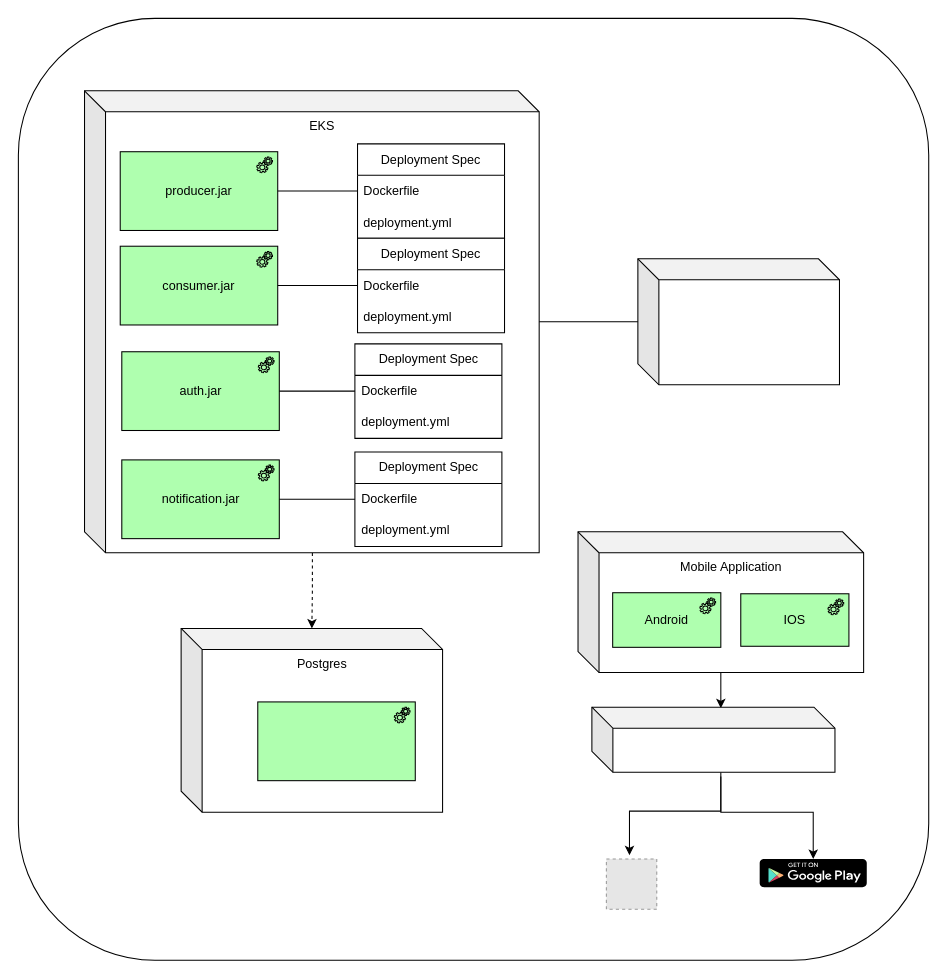
The diagram is 947 pixels wide and 979 high, and some of its shapes have lost their labels. Grey dashed boxes stand in for pictures. The shapes that lost their labels are listed below. From the top down, each one's centre as x and y in pixels, then its label:
At [738,321]: "Docker Registry ECR".
At [336,741]: "Schema.sql".
At [713,739]: "Jenkins - (Signed IPA and APK file)".
